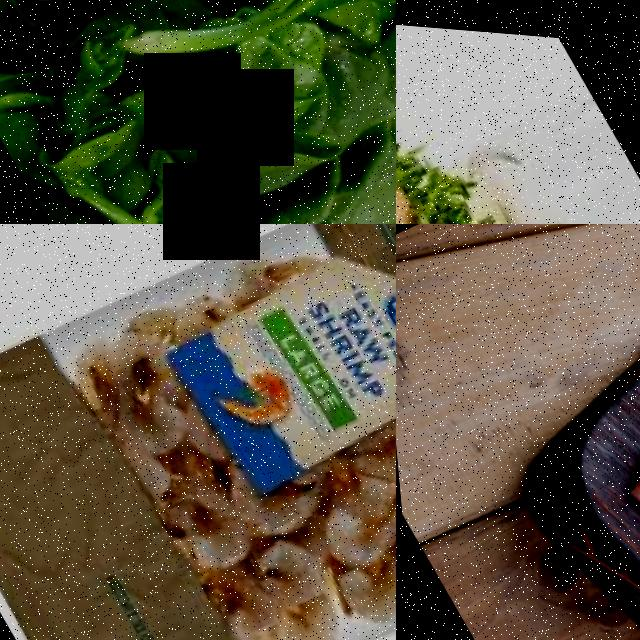shrimp: (150, 475, 255, 578), (237, 522, 327, 611), (306, 483, 396, 570)
